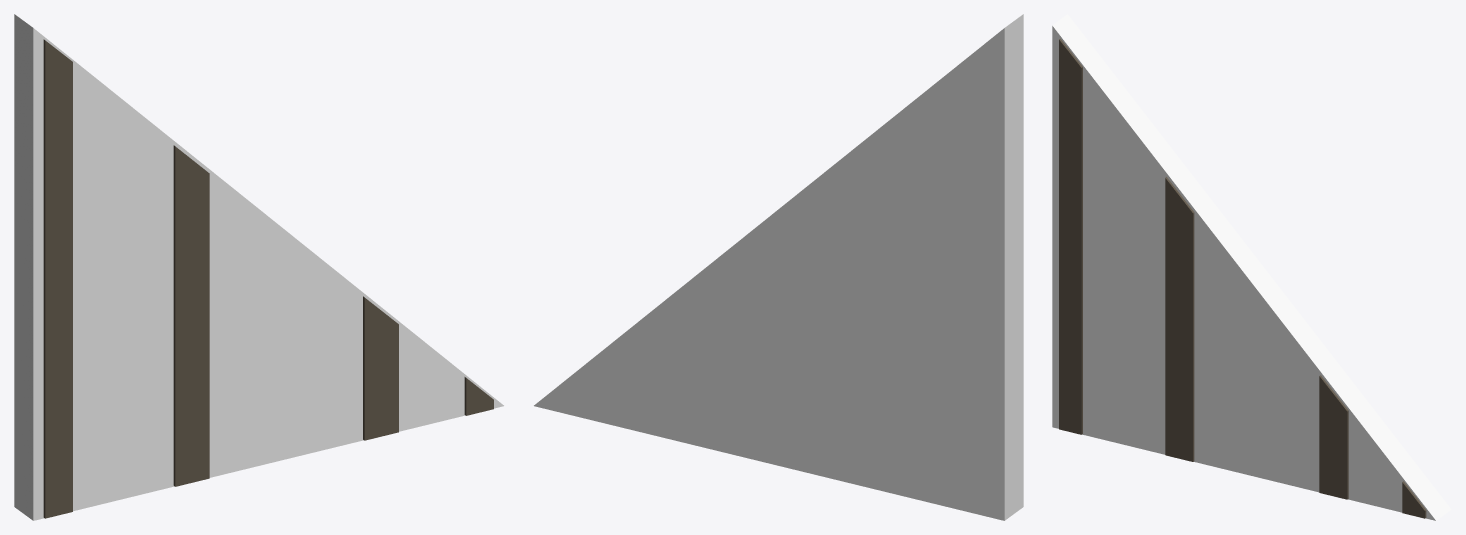
File: _ROOF_trinagle_right_wood_1.fbx
The picture shows the model from 3 angles, left to right: view 1: azimuth 30°, elevation 25°; view 2: azimuth 150°, elevation 25°; view 3: azimuth 330°, elevation 25°; orthographic projection. The views are drawn at different scales.
Visible parts, largest first — view 1: ROOF_trinagle_right_wood_1; view 2: ROOF_trinagle_right_wood_1; view 3: ROOF_trinagle_right_wood_1.
Part boxes in pixels (x1,y1,x2,y2): ROOF_trinagle_right_wood_1: (14,14,503,520); ROOF_trinagle_right_wood_1: (534,14,1023,520); ROOF_trinagle_right_wood_1: (1052,14,1451,520).
Bounding box in the file's own units: 100 × 100 × 7.61.
